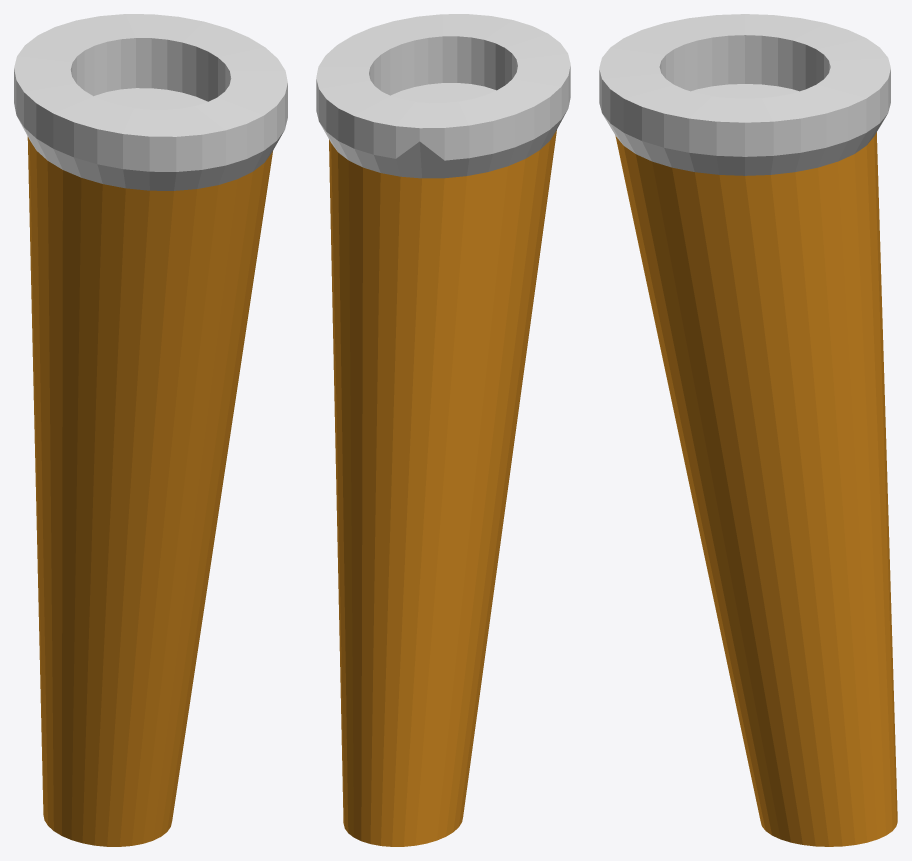
The model's file is torch.fbx.
3 views of the same model, side by side, from view 1: azimuth 30°, elevation 25°; view 2: azimuth 150°, elevation 25°; view 3: azimuth 270°, elevation 25° (orthographic). The views are drawn at different scales.
Parts seen in each view (by area): view 1: Torch; view 2: Torch; view 3: Torch.
Boxes of the visible parts, x1,y1,x2,y2 form: Torch: (14,14,287,846); Torch: (316,14,570,846); Torch: (599,14,897,846).
Size of the model in its own units: 33.11 by 107 by 38.43.
